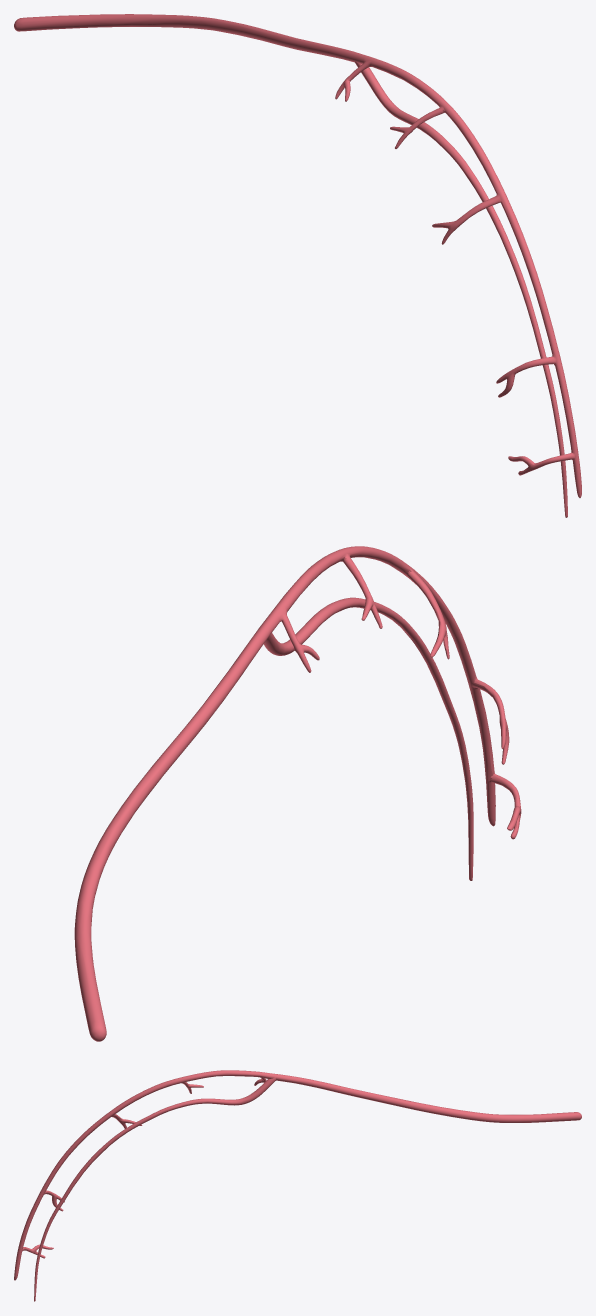
Rendered from fma20818_cx38.glb.
The picture shows the model from 3 angles, top to bottom: view 1: azimuth 30°, elevation 25°; view 2: azimuth 150°, elevation 25°; view 3: azimuth 270°, elevation 25°; orthographic projection. The views are drawn at different scales.
Parts seen in each view (by area): view 1: FMA20818_CX38; view 2: FMA20818_CX38; view 3: FMA20818_CX38.
Part boxes in pixels (x1,y1,x2,y2): FMA20818_CX38: (14,14,581,517); FMA20818_CX38: (74,546,521,1041); FMA20818_CX38: (14,1070,581,1301).
Size of the model in its own units: 0.0233 by 0.0559 by 0.1277.
